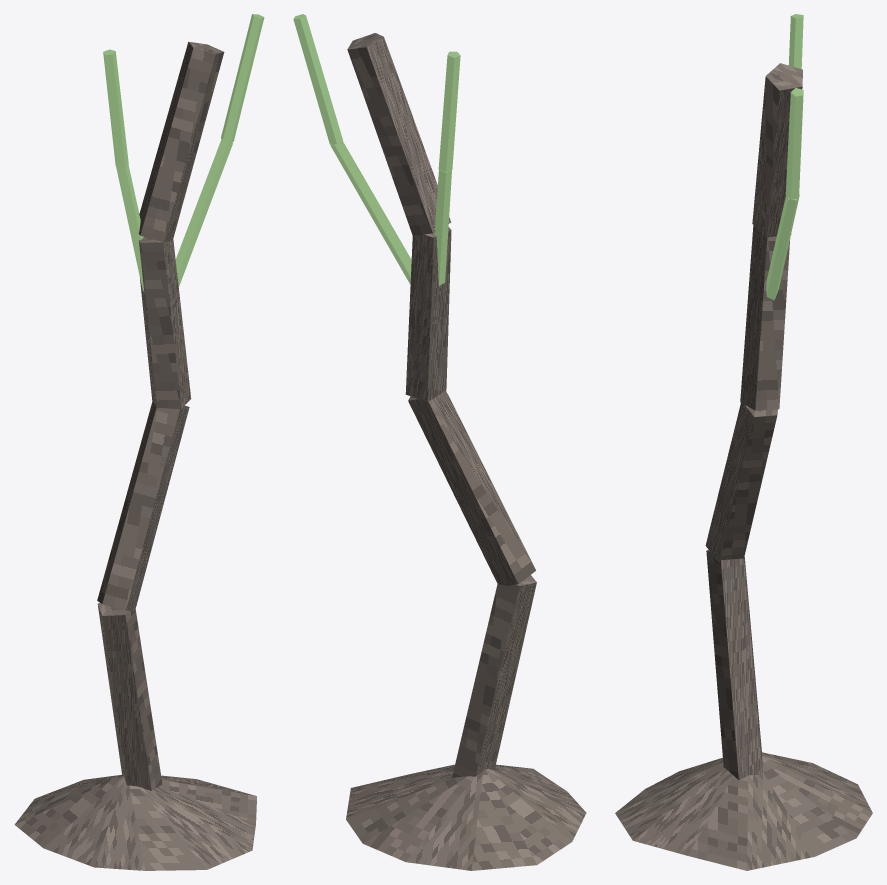
The model's file is f_alien_tendril.glb.
3 views of the same model, side by side, from view 1: azimuth 30°, elevation 25°; view 2: azimuth 150°, elevation 25°; view 3: azimuth 270°, elevation 25° (orthographic). The views are drawn at different scales.
Parts seen in each view (by area): view 1: block_rooted-flesh, block_arching-spine-2, block_arching-spine-4, block_arching-spine-1, block_arching-spine-3, block_luminous-feeler-2 (×2), block_luminous-feeler-1 (×2); view 2: block_rooted-flesh, block_arching-spine-2, block_arching-spine-4, block_arching-spine-1, block_arching-spine-3, block_luminous-feeler-2 (×2), block_luminous-feeler-1 (×2); view 3: block_rooted-flesh, block_arching-spine-1, block_arching-spine-2, block_arching-spine-3, block_arching-spine-4, block_luminous-feeler-2 (×2), block_luminous-feeler-1.
Part boxes in pixels (x1=…): block_rooted-flesh: x1=14, y1=774, x2=256, y2=870; block_arching-spine-2: x1=97, y1=401, x2=189, y2=611; block_arching-spine-4: x1=138, y1=41, x2=224, y2=242; block_arching-spine-1: x1=97, y1=603, x2=162, y2=790; block_arching-spine-3: x1=138, y1=237, x2=191, y2=408; block_luminous-feeler-2 (×2): x1=103, y1=14, x2=264, y2=168; block_luminous-feeler-1 (×2): x1=116, y1=139, x2=232, y2=291; block_rooted-flesh: x1=346, y1=764, x2=586, y2=870; block_arching-spine-2: x1=408, y1=391, x2=535, y2=585; block_arching-spine-4: x1=347, y1=33, x2=451, y2=235; block_arching-spine-1: x1=452, y1=575, x2=536, y2=777; block_arching-spine-3: x1=405, y1=227, x2=451, y2=401; block_luminous-feeler-2 (×2): x1=293, y1=14, x2=460, y2=171; block_luminous-feeler-1 (×2): x1=330, y1=140, x2=451, y2=285; block_rooted-flesh: x1=615, y1=752, x2=872, y2=870; block_arching-spine-1: x1=706, y1=550, x2=762, y2=779; block_arching-spine-2: x1=705, y1=403, x2=777, y2=562; block_arching-spine-3: x1=740, y1=225, x2=789, y2=410; block_arching-spine-4: x1=752, y1=63, x2=802, y2=237; block_luminous-feeler-2 (×2): x1=785, y1=14, x2=803, y2=199; block_luminous-feeler-1: x1=766, y1=194, x2=799, y2=300.
Size of the model in its own units: 0.5578 by 1.65 by 0.4874.
Materials: 2 (2 with a texture image).
